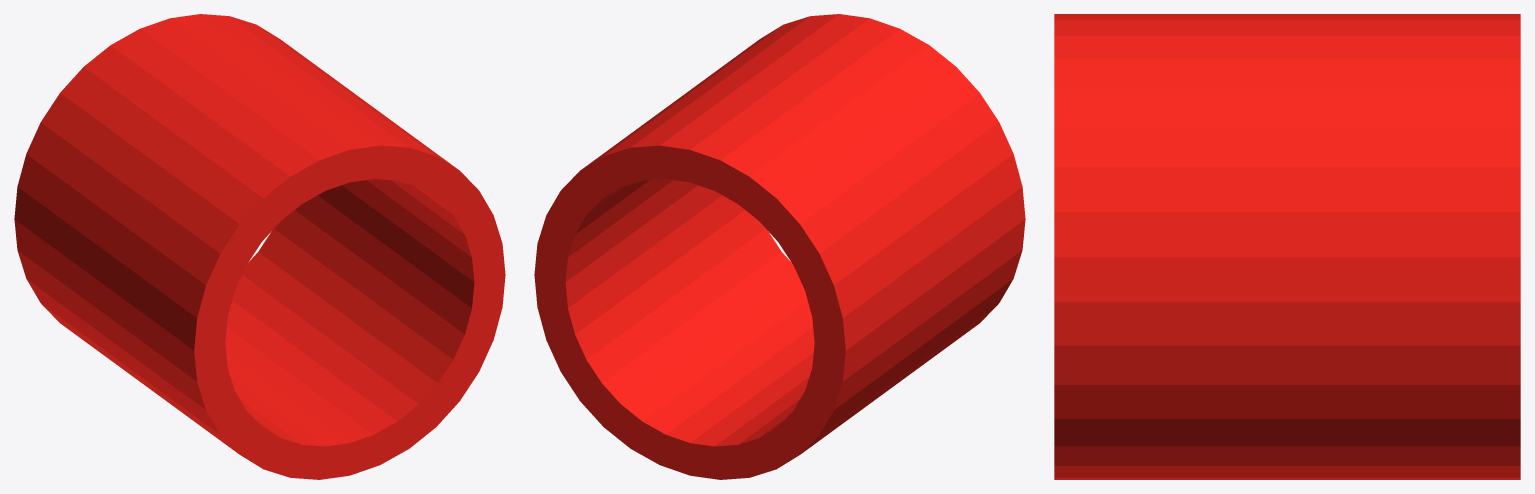
File: maru.obj
3 renders of one model, left to right at view 1: azimuth 30°, elevation 25°; view 2: azimuth 150°, elevation 25°; view 3: azimuth 270°, elevation 25°, orthographic. The views are drawn at different scales.
Parts seen in each view (by area): view 1: 円柱; view 2: 円柱; view 3: 円柱.
Part boxes in pixels (x1,y1,x2,y2): 円柱: [14, 14, 505, 479]; 円柱: [534, 14, 1025, 479]; 円柱: [1054, 14, 1520, 479].
Size of the model in its own units: 1.85 by 1.85 by 1.85.
